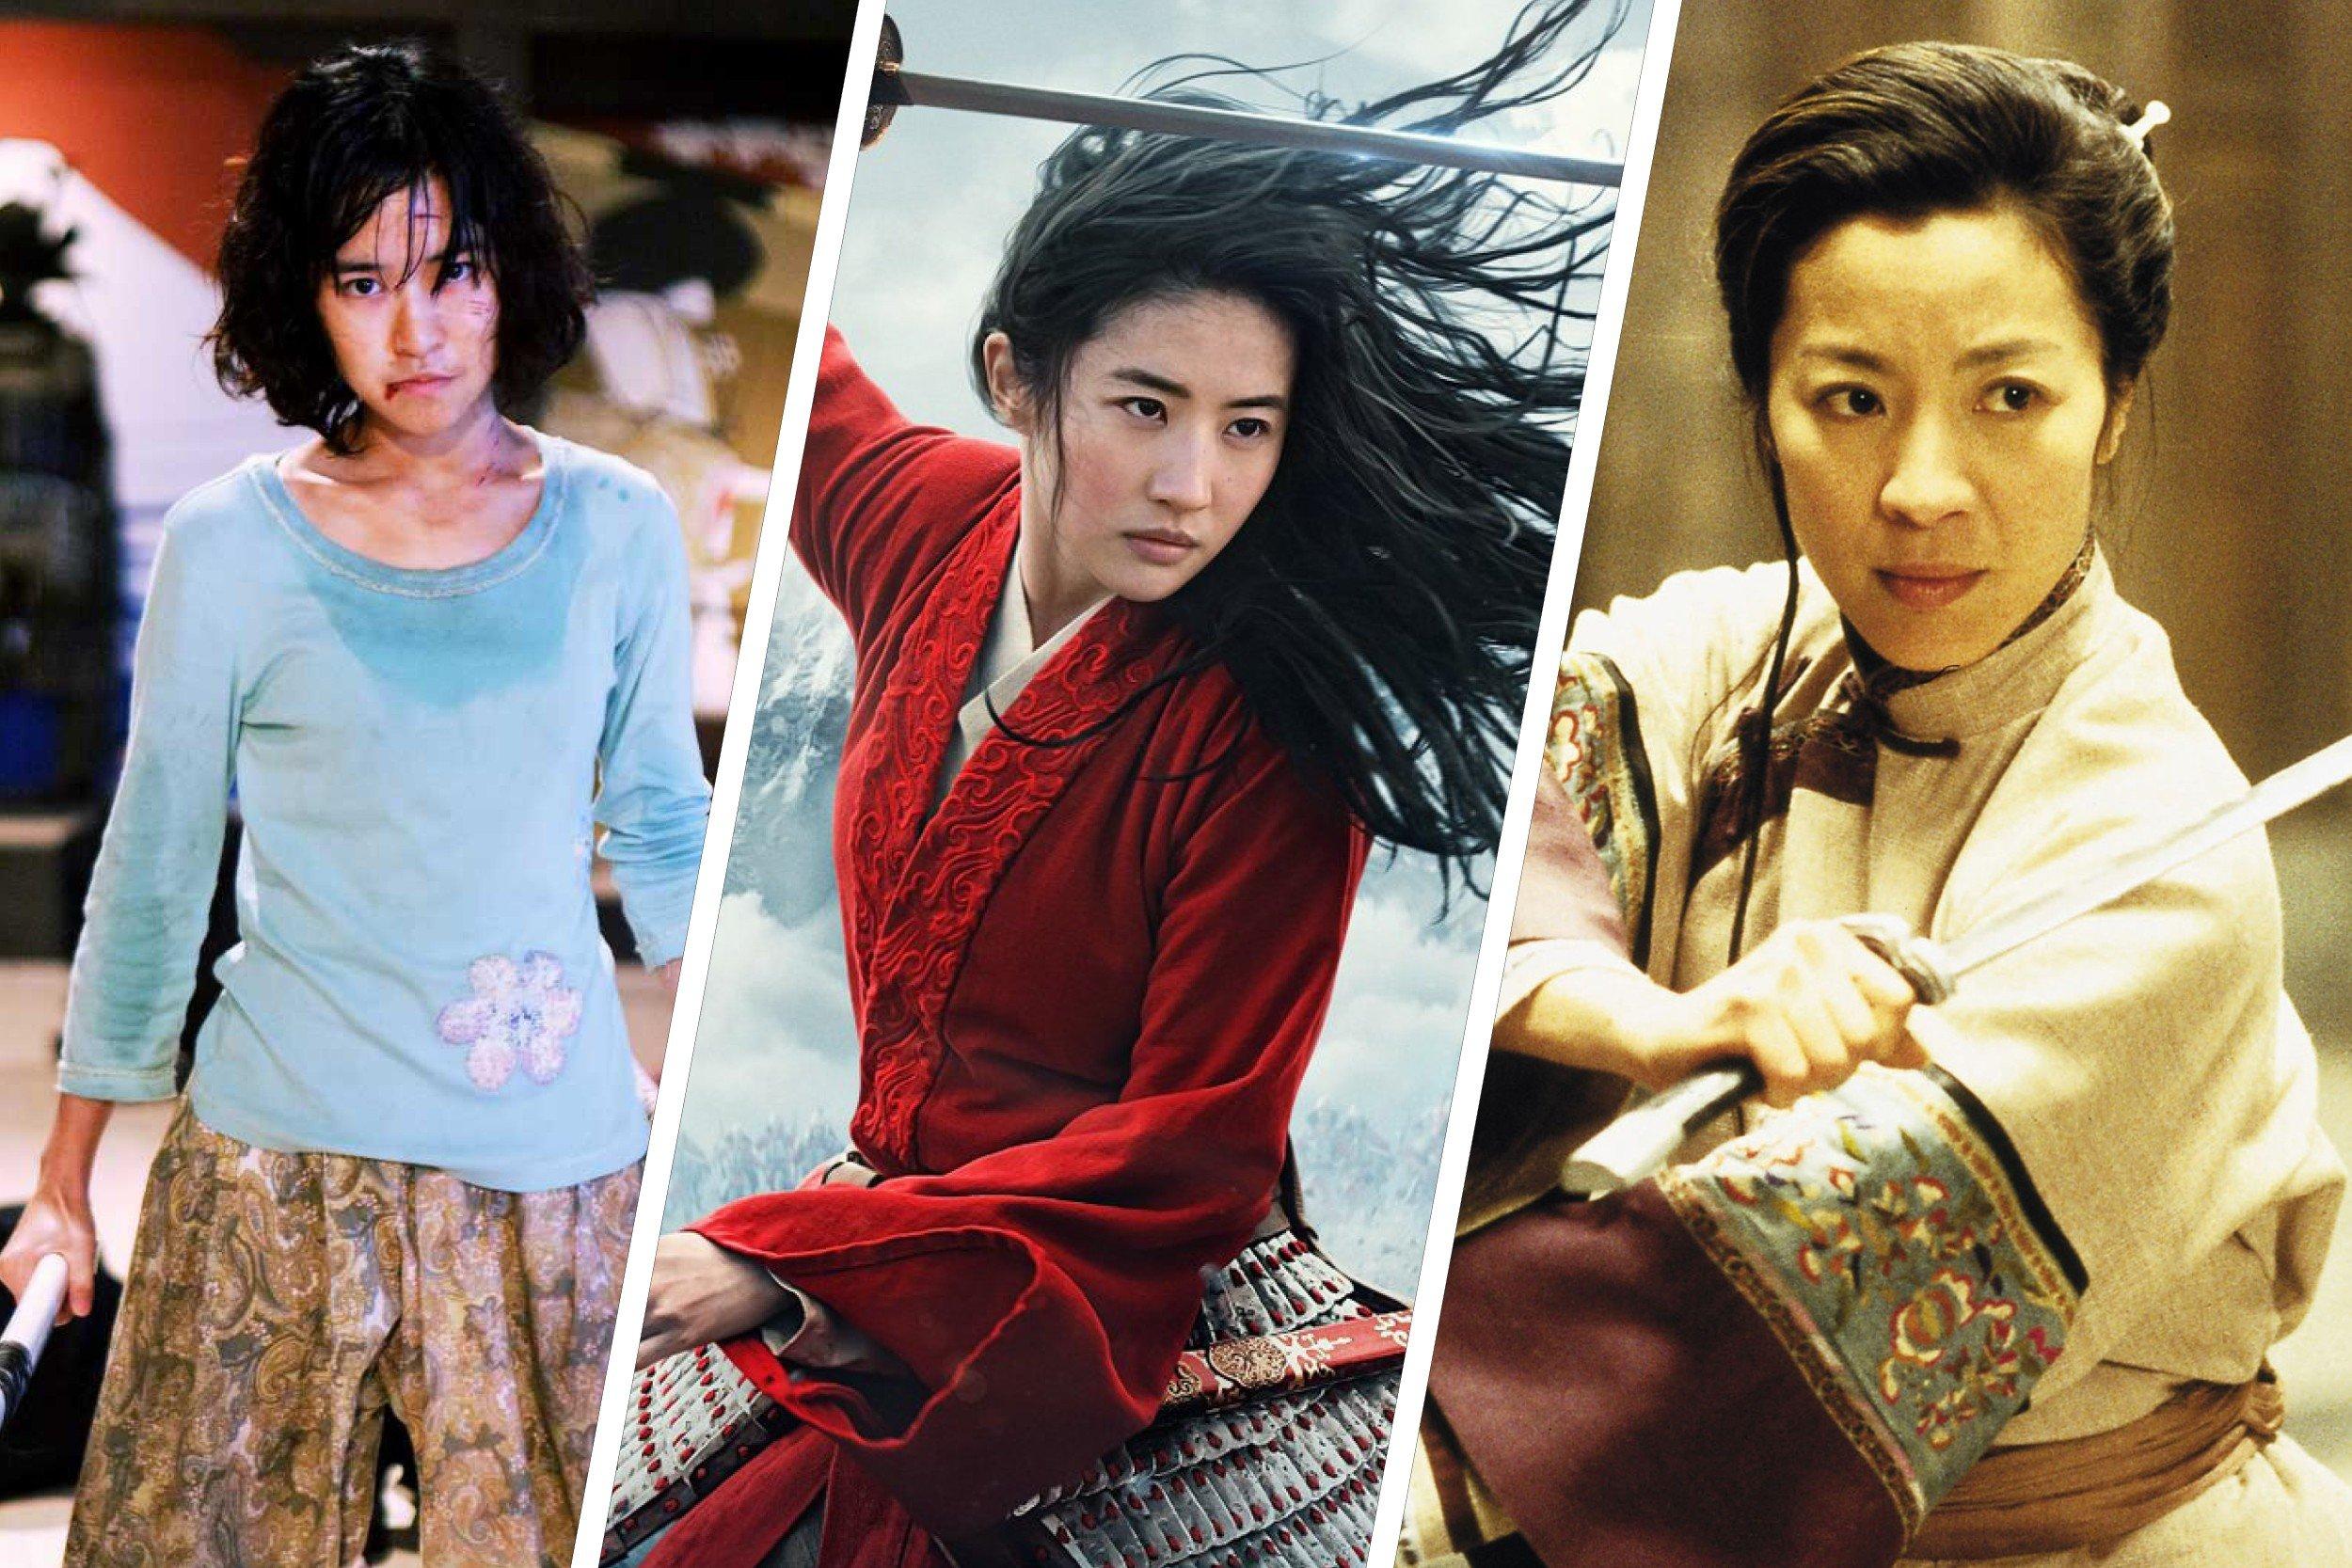NoMask: (1773, 316, 2082, 680), (1042, 359, 1283, 584), (324, 246, 502, 432)
